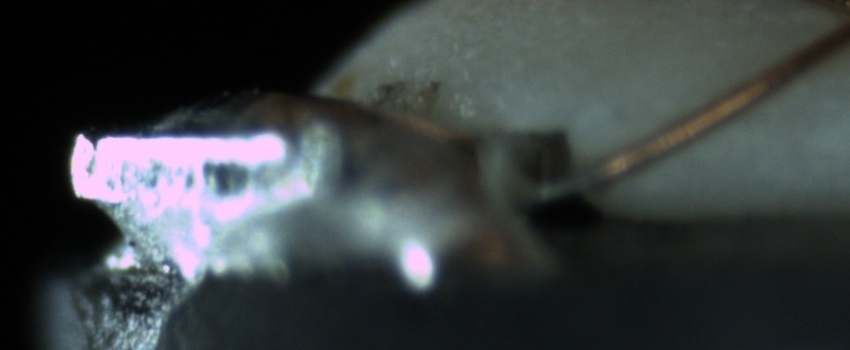TS: (530, 166, 604, 202)
